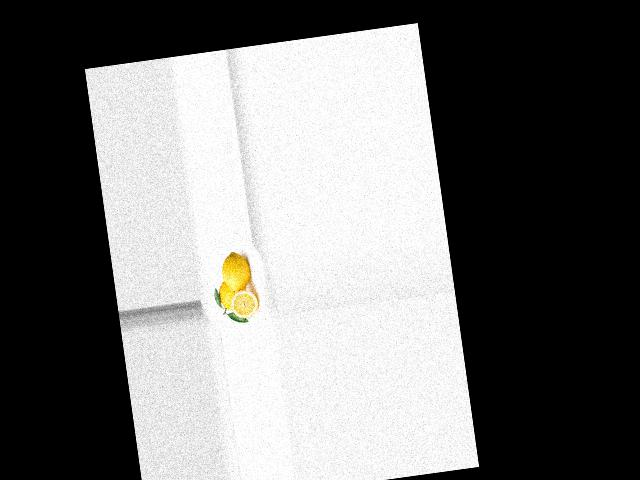lemon: (215, 276, 246, 314)
